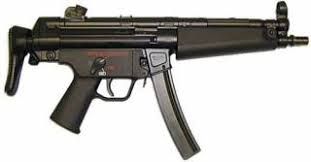gun: (3, 1, 309, 159)
